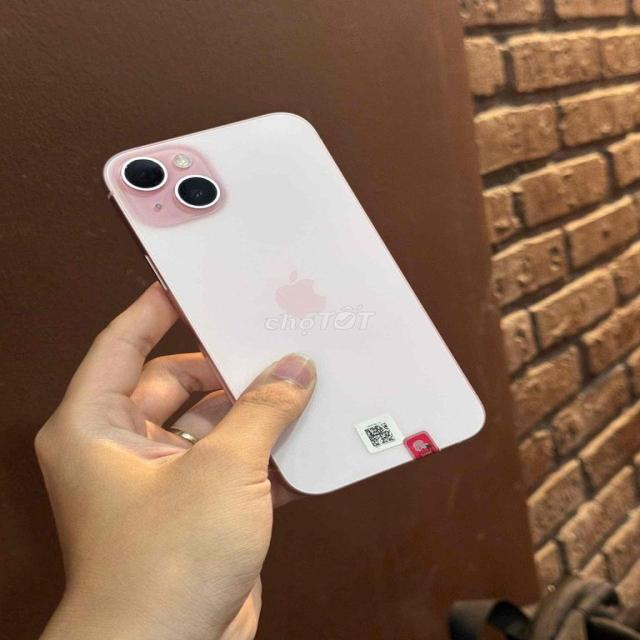gen_15: (95, 118, 504, 488)
